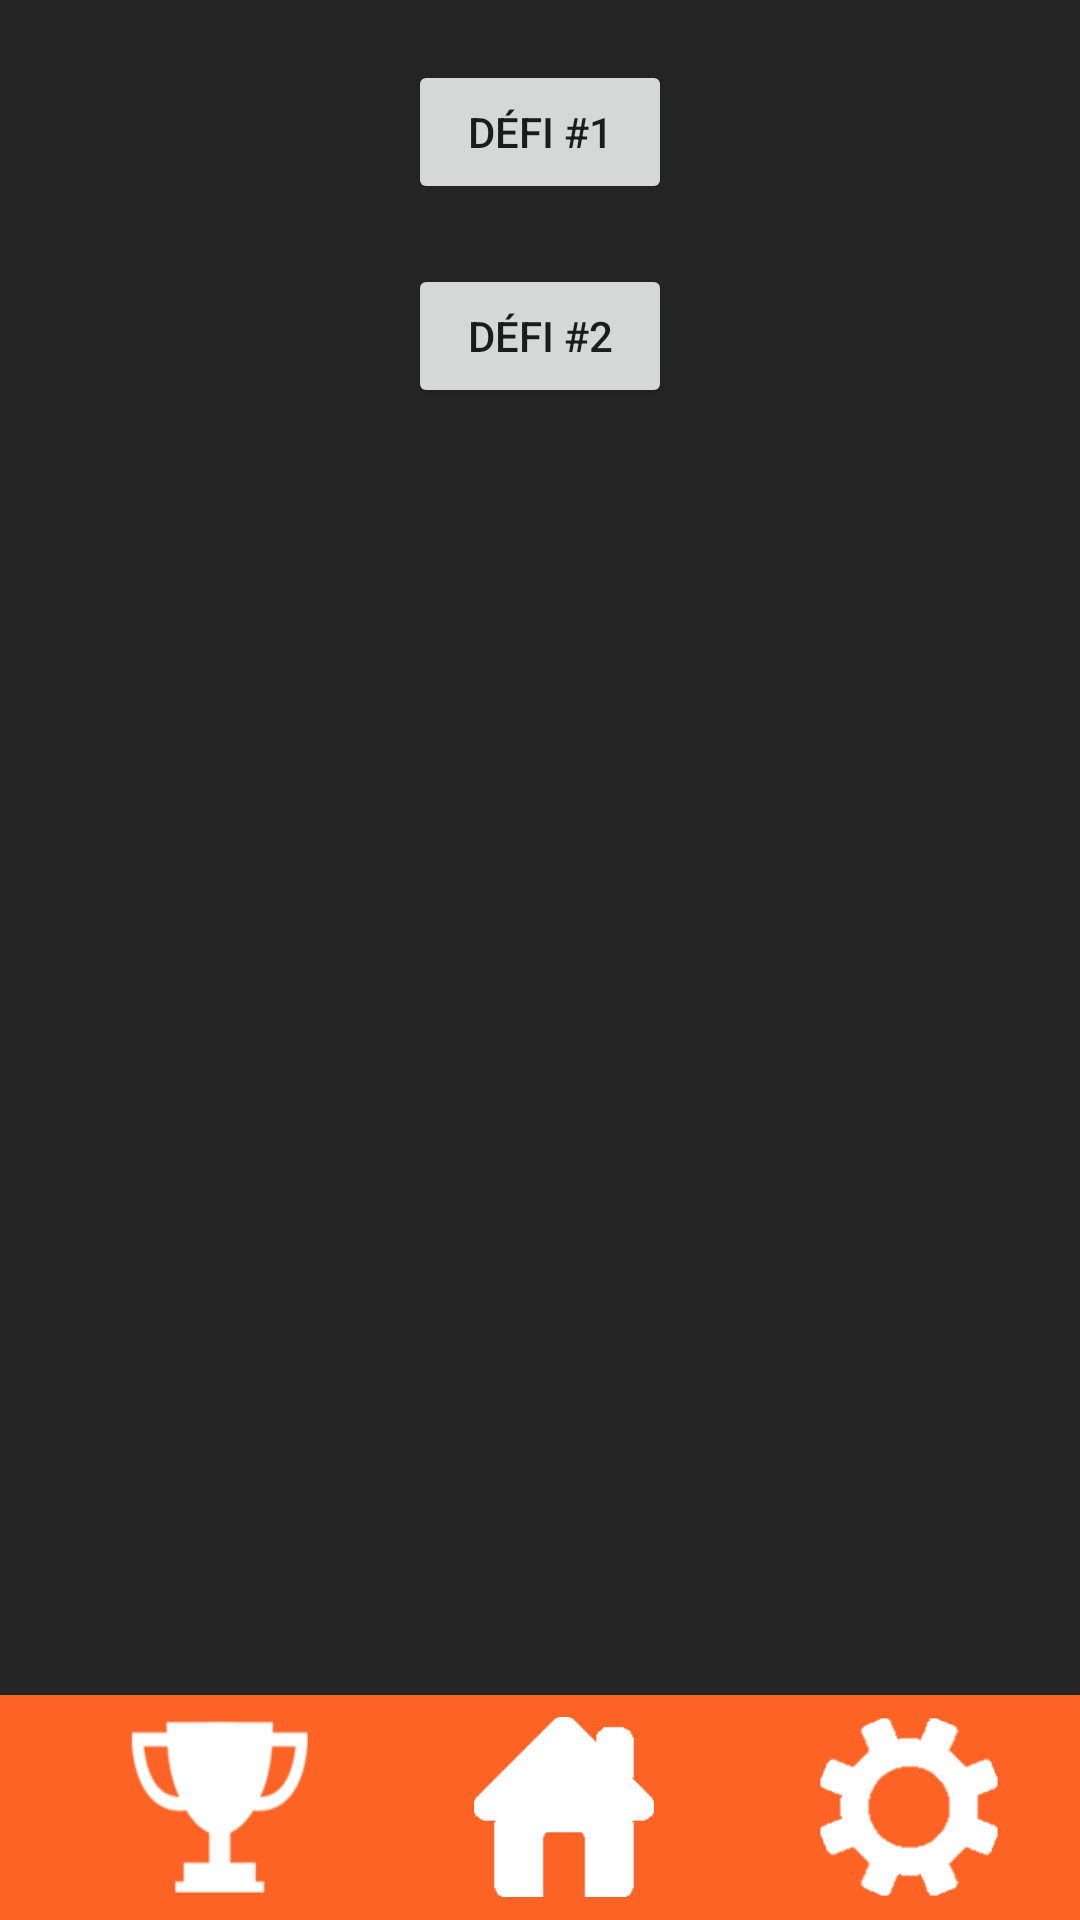

Icons on this 1080 x 1920 Android screen, each with its box as (x1, y1, x2, y2):
house: (474, 1717, 654, 1897)
prize: (131, 1721, 308, 1893)
setting: (820, 1718, 998, 1896)
